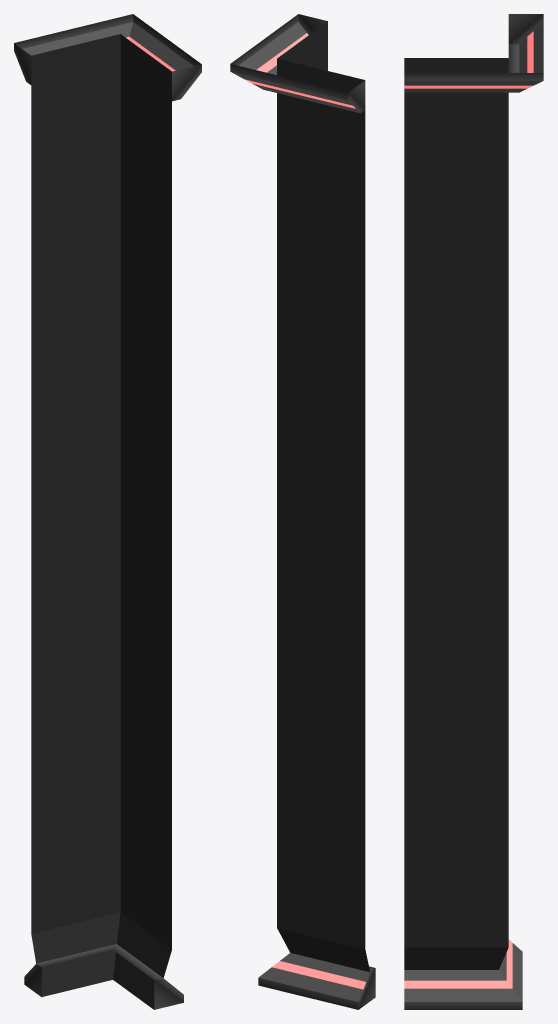
Rendered from FS_WALL_2_Corner_Inner_5m.fbx.
The picture shows the model from 3 angles, left to right: view 1: azimuth 30°, elevation 25°; view 2: azimuth 150°, elevation 25°; view 3: azimuth 270°, elevation 25°; orthographic projection. The views are drawn at different scales.
Parts seen in each view (by area): view 1: FS_WALL_2_Corner_Inner_5m; view 2: FS_WALL_2_Corner_Inner_5m; view 3: FS_WALL_2_Corner_Inner_5m.
Boxes of the visible parts, x1=… form: FS_WALL_2_Corner_Inner_5m: x1=14, y1=14, x2=201, y2=1009; FS_WALL_2_Corner_Inner_5m: x1=230, y1=14, x2=375, y2=1009; FS_WALL_2_Corner_Inner_5m: x1=404, y1=14, x2=543, y2=1009.
Bounding box in the file's own units: 66.76 × 500 × 66.76.
